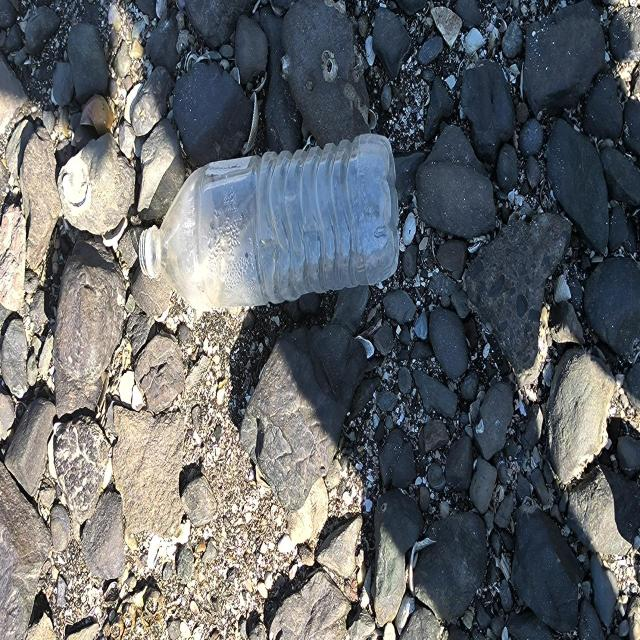plastic_waste: (139, 133, 402, 313)
